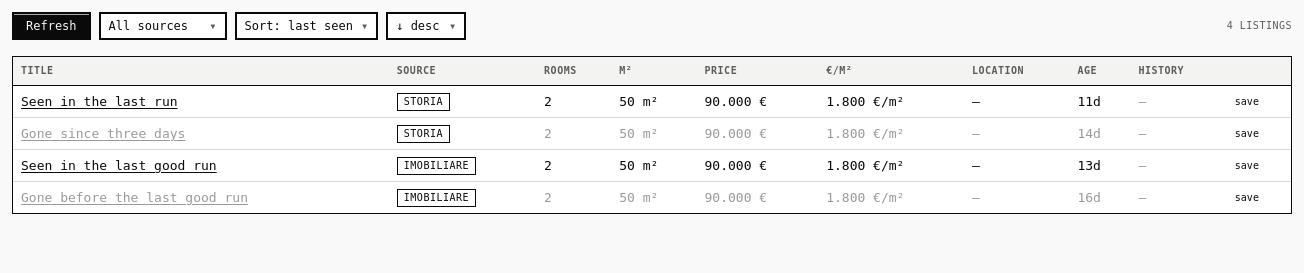
<ListingsPage> staleness › says so when Refresh fails, and dims nothing new
Check: the link "Seen in the last run" is shown, box [21,94,178,108]
Click the button "Refresh" at (51, 26), box [12,12,91,40]
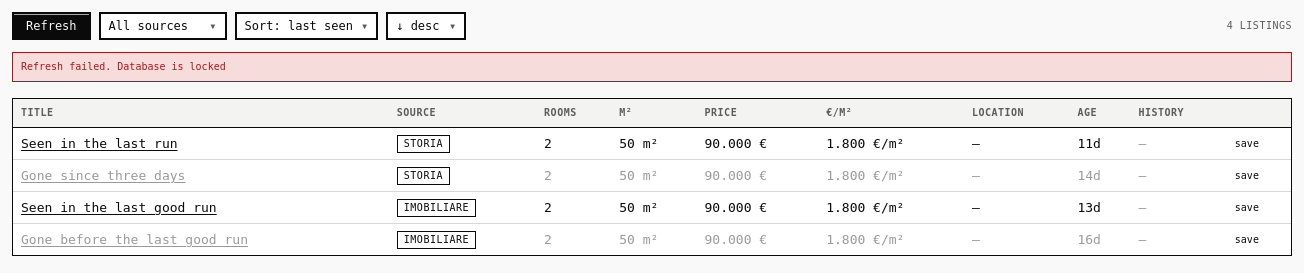
Check: the message reads "Refresh failed. Database is locked", box [21,61,226,72]
